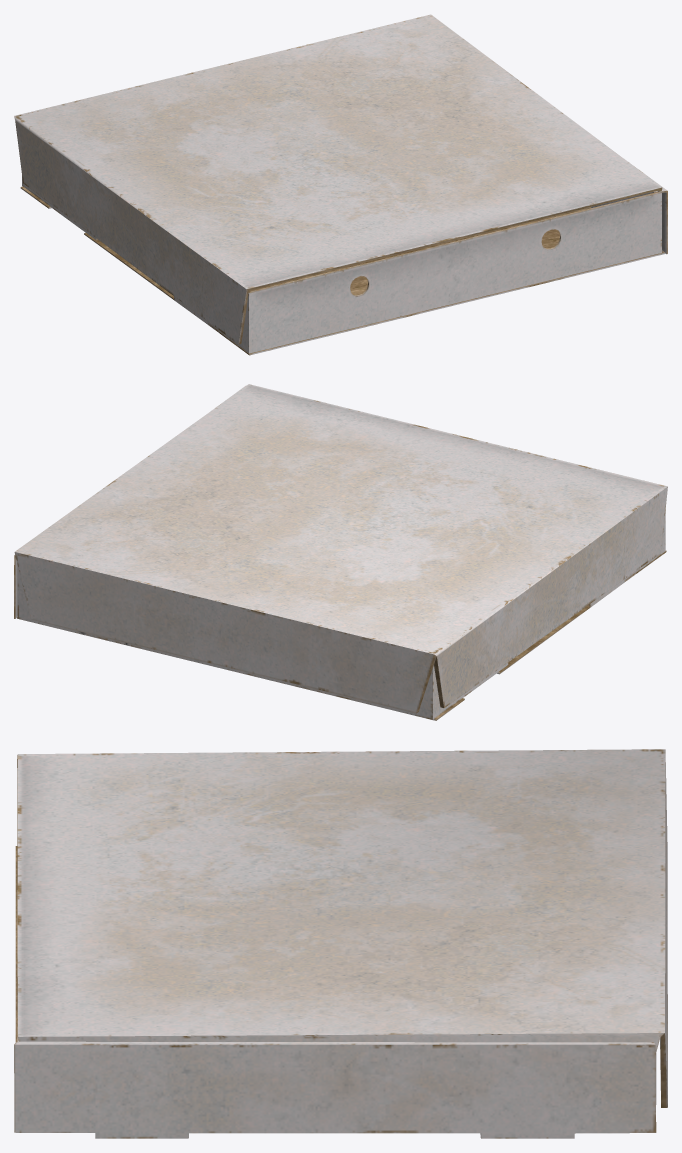
The model's file is SM_Food_Box_03.FBX.
3 views of the same model, one above another, from view 1: azimuth 30°, elevation 25°; view 2: azimuth 150°, elevation 25°; view 3: azimuth 270°, elevation 25° (orthographic). The views are drawn at different scales.
Visible parts, largest first — view 1: SM_Food_Box_03; view 2: SM_Food_Box_03; view 3: SM_Food_Box_03.
Boxes of the visible parts, <box> form: SM_Food_Box_03: <box>14,14,667,355</box>; SM_Food_Box_03: <box>14,384,667,720</box>; SM_Food_Box_03: <box>14,749,667,1138</box>.
Bounding box in the file's own units: 93.13 × 89.75 × 15.64.
